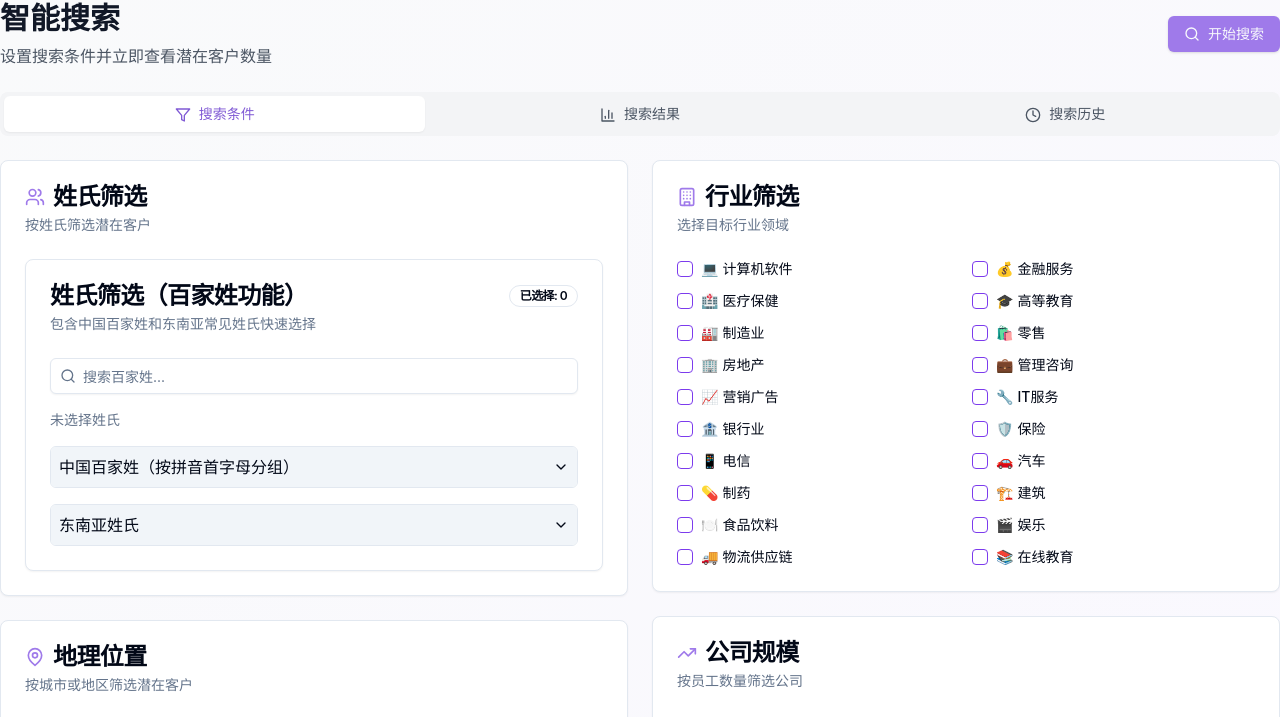
it: IntegratedSearchPage 单元测试 › 搜索历史测试 › 应该能够加载和显示搜索历史
The image size is (1280, 717).
切换到历史标签页
Click the button "搜索历史" at [1065, 114], box [855, 96, 1276, 132]
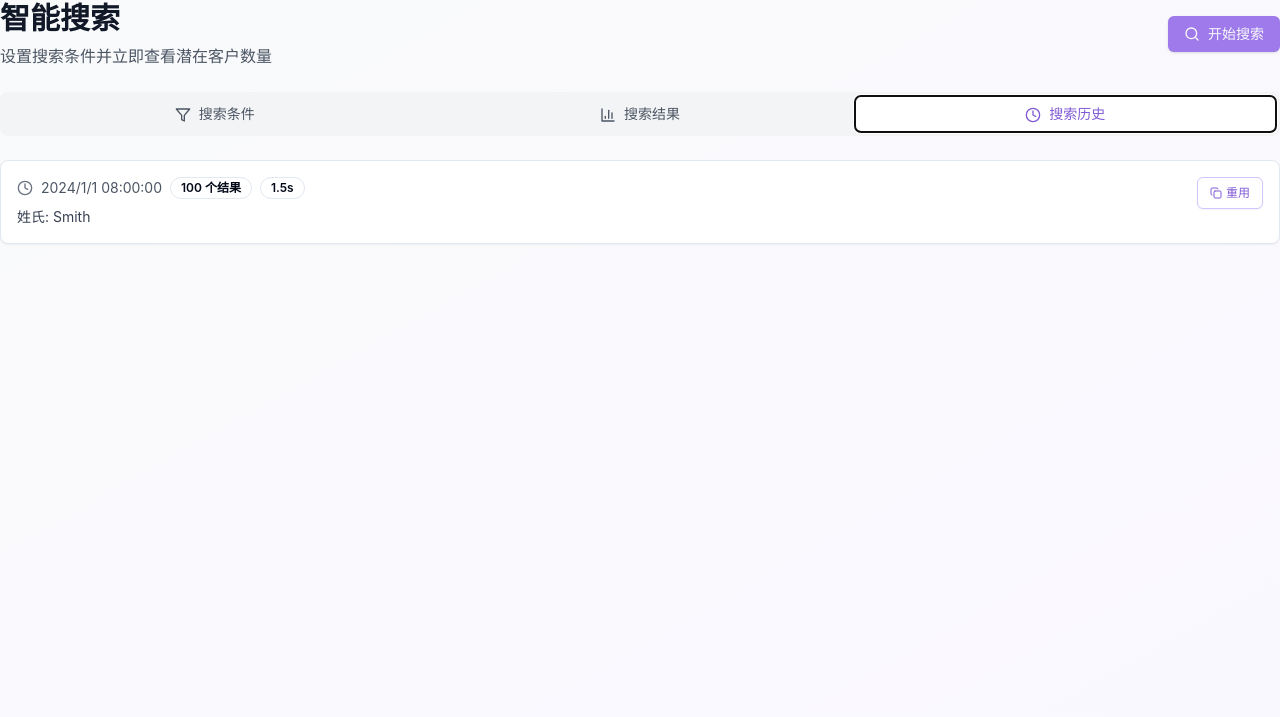
Expected: the text "2024/1/1 08:00:00" is shown, [41, 178, 162, 198]
Expected: the text "100 个结果" is shown, [170, 177, 252, 199]
